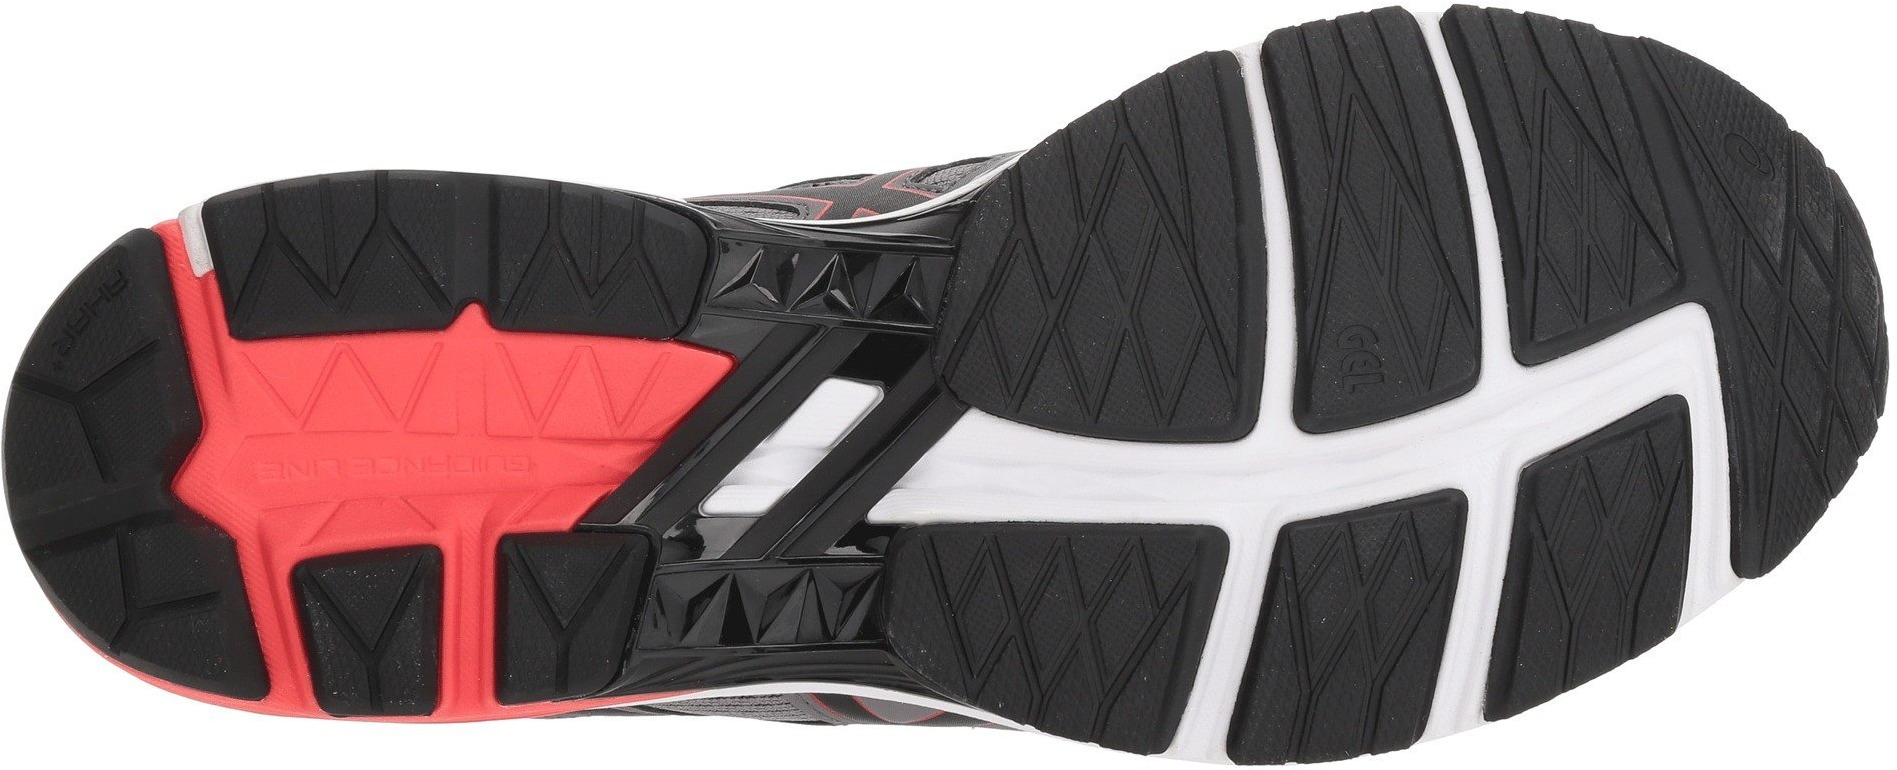exclude: (651, 130, 1071, 222)
quad: (219, 209, 474, 446), (994, 203, 1213, 425), (990, 522, 1157, 706), (1741, 297, 1878, 446), (1546, 479, 1668, 626), (1526, 156, 1659, 291), (1301, 525, 1423, 668), (1336, 130, 1438, 260)
